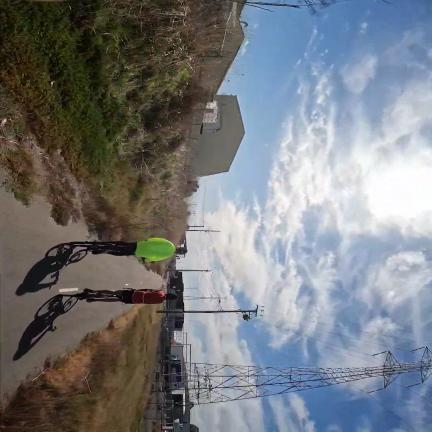Bike_Lane: (0, 189, 161, 394)
